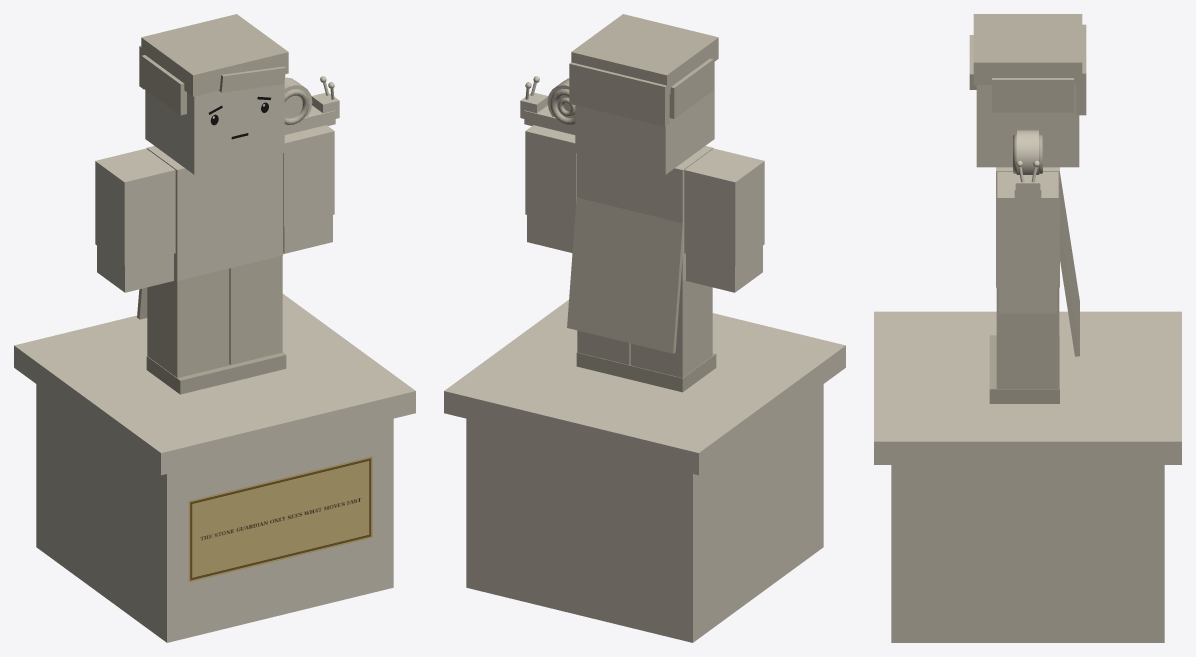
Rendered from founder_statue.glb.
3 renders of one model, left to right at view 1: azimuth 30°, elevation 25°; view 2: azimuth 150°, elevation 25°; view 3: azimuth 270°, elevation 25°, orthographic. The views are drawn at different scales.
Parts seen in each view (by area): view 1: founder_statue, head, torso, arm_R, leg_R, leg_L, arm_L, body, shell; view 2: founder_statue, torso, head, arm_R, arm_L, leg_R, leg_L, body, shell; view 3: founder_statue, head, arm_L, leg_L, torso, shell, body.
Boxes of the visible parts, x1,y1,x2,y2 form: founder_statue: (14, 294, 415, 642); head: (139, 14, 288, 174); torso: (137, 146, 283, 319); arm_R: (95, 148, 175, 292); leg_R: (146, 268, 233, 394); leg_L: (229, 255, 286, 381); arm_L: (283, 125, 334, 253); body: (284, 92, 339, 134); shell: (284, 77, 312, 124); founder_statue: (444, 300, 845, 642); torso: (567, 146, 713, 353); head: (569, 14, 718, 174); arm_R: (684, 148, 764, 292); arm_L: (525, 125, 576, 252); leg_R: (629, 279, 716, 392); leg_L: (576, 330, 630, 379); body: (520, 92, 575, 134); shell: (547, 78, 575, 124); founder_statue: (874, 311, 1181, 642); head: (969, 14, 1086, 167); arm_L: (997, 172, 1058, 313); leg_L: (989, 287, 1059, 403); torso: (996, 167, 1079, 356); shell: (1013, 130, 1042, 174); body: (1014, 174, 1041, 204).
Size of the model in its own units: 1.8 by 3.53 by 1.8.
Materials: 11 (2 with a texture image).
